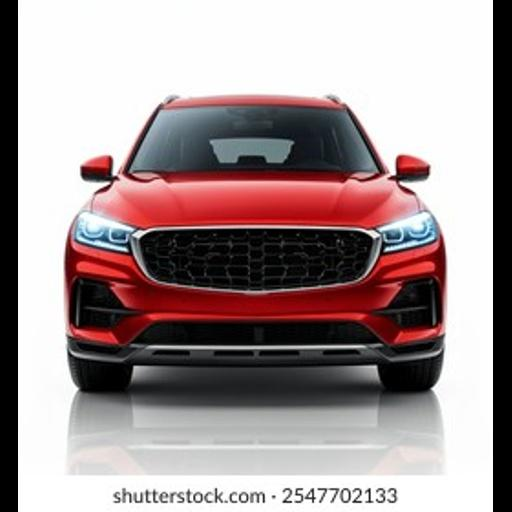suv: (68, 97, 445, 390)
